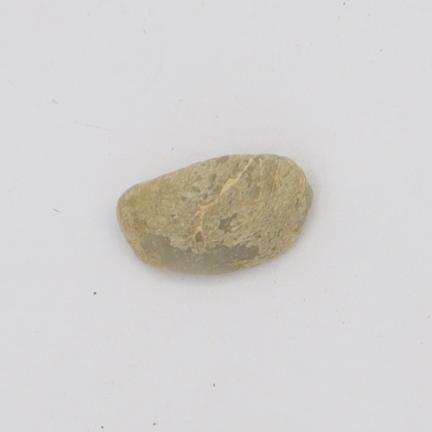shell: (118, 155, 312, 273)
